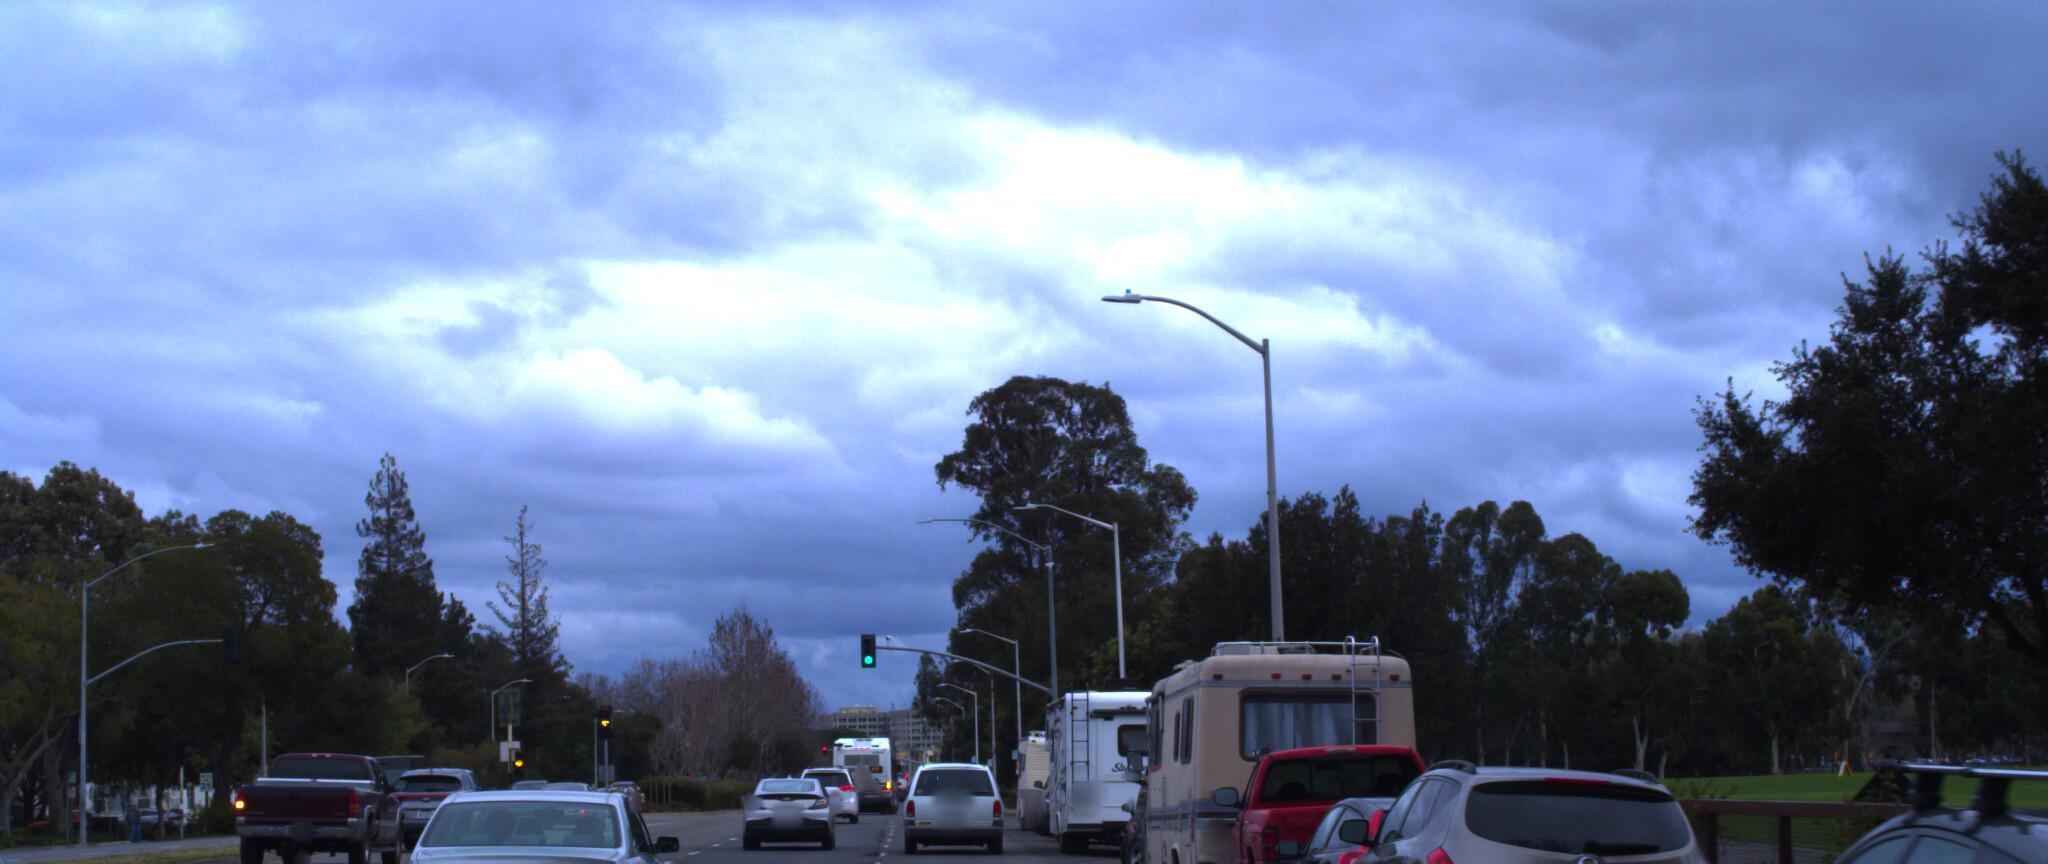car: (1607, 733, 2048, 864), (1307, 740, 1761, 864), (1213, 719, 1493, 864), (377, 760, 687, 864), (1262, 782, 1567, 864), (232, 747, 406, 864), (374, 741, 509, 837), (896, 743, 1011, 847), (725, 764, 832, 844), (536, 754, 624, 820), (0, 764, 44, 864)
other_vehicle: (1121, 621, 1450, 864), (1031, 654, 1219, 848), (986, 711, 1089, 825)
